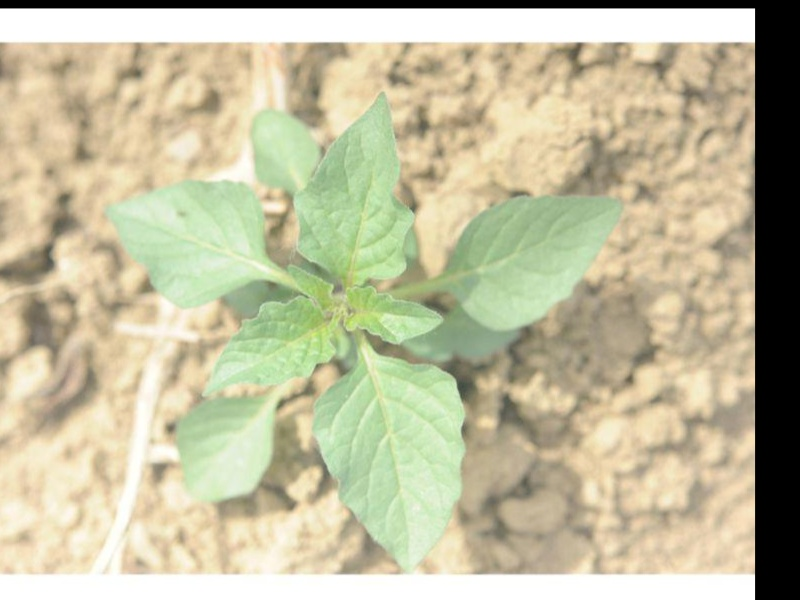nightshade: (105, 90, 625, 574)
